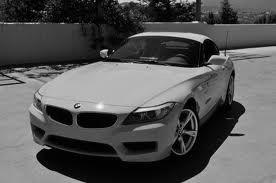car: (31, 32, 237, 170)
